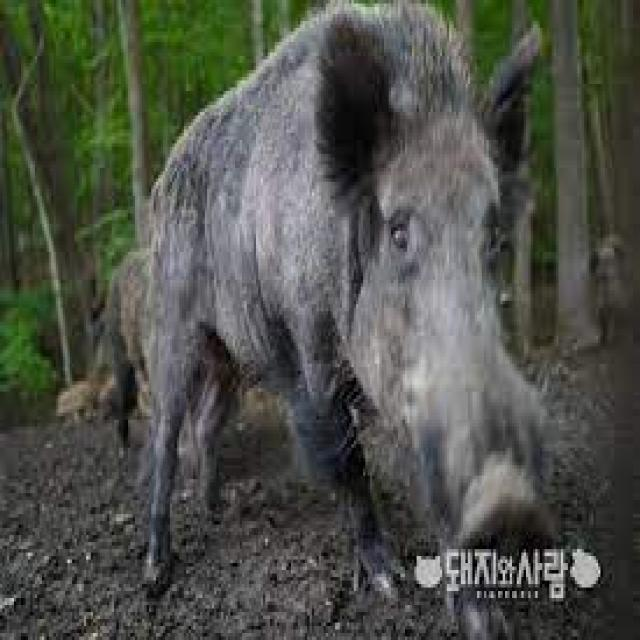boar: (121, 0, 590, 612)
